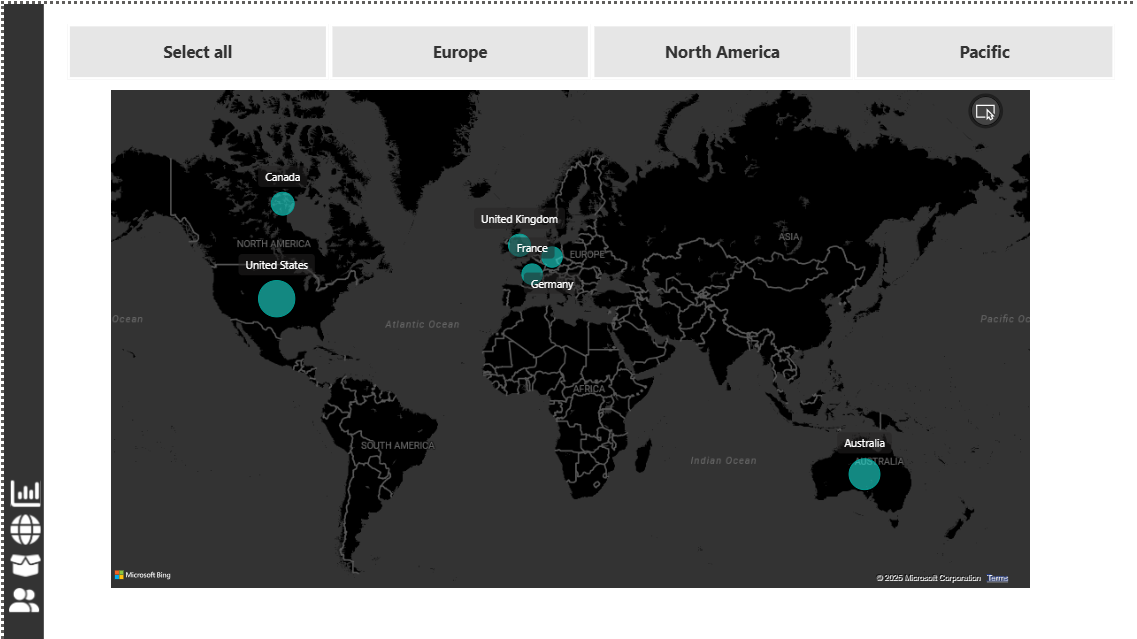

The dashboard page shown, as its layout file describes it:
{"tool":"powerbi","page":{"name":"Map","canvas":[1280,720],"ordinal":1},"visuals":[{"type":"shape","box":[0,0,45,720],"z":0},{"type":"actionButton","box":[3.5,612.8,44.2,42],"z":0,"group":"g1"},{"type":"map","fields":{"Category":["Territory Lookup.Country"],"Size":["Measure Table.Total Orders"]},"box":[115,92.3,1049.3,573.2],"z":1000},{"type":"actionButton","box":[3.5,532,44.2,42],"z":1000,"group":"g1"},{"type":"slicer","fields":{"Values":["Territory Lookup.Continent"]},"box":[45.8,14.6,1233.3,77.1],"z":2000},{"type":"actionButton","box":[3.5,572.4,44.2,42],"z":2000,"group":"g1"},{"type":"group","id":"g1","title":"Navigation Buttons","box":[2.5,532,46.2,163.2],"z":3000},{"type":"actionButton","box":[2.5,653.2,46.2,42],"z":3000,"group":"g1"}]}

Visuals, with their boxes on the page's 1280x720 design canvas (x1, y1, x2, y2). These are canvas units, not pixel positions in the 1137x639 screenshot, which may show the page scaled, cropped or inside an application window:
shape: <bbox>0, 0, 45, 720</bbox>
actionButton: <bbox>4, 613, 48, 655</bbox>
map - Territory Lookup.Country x Measure Table.Total Orders: <bbox>115, 92, 1164, 666</bbox>
actionButton: <bbox>4, 532, 48, 574</bbox>
slicer - Territory Lookup.Continent: <bbox>46, 15, 1279, 92</bbox>
actionButton: <bbox>4, 572, 48, 614</bbox>
"Navigation Buttons" group: <bbox>2, 532, 49, 695</bbox>
actionButton: <bbox>2, 653, 49, 695</bbox>
